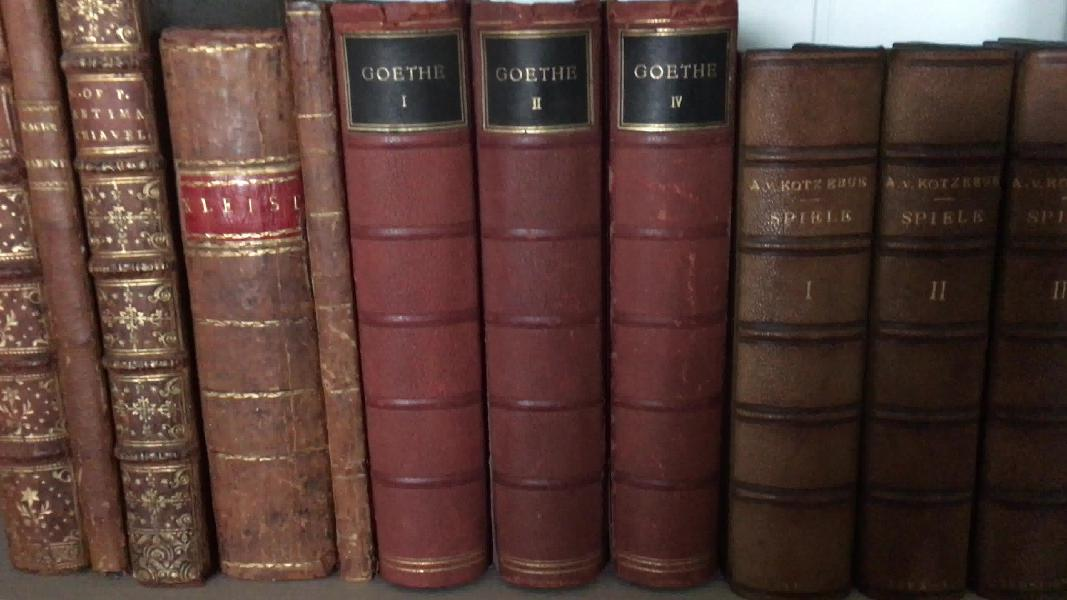Aa6-10: (270, 8, 386, 583)
Aa6-11_13: (326, 7, 739, 600)
Aa6-14_17: (729, 46, 1059, 600)
Aa6-7: (2, 7, 140, 576)
Aa6-8: (57, 6, 221, 588)
Aa6-9: (142, 21, 347, 595)
